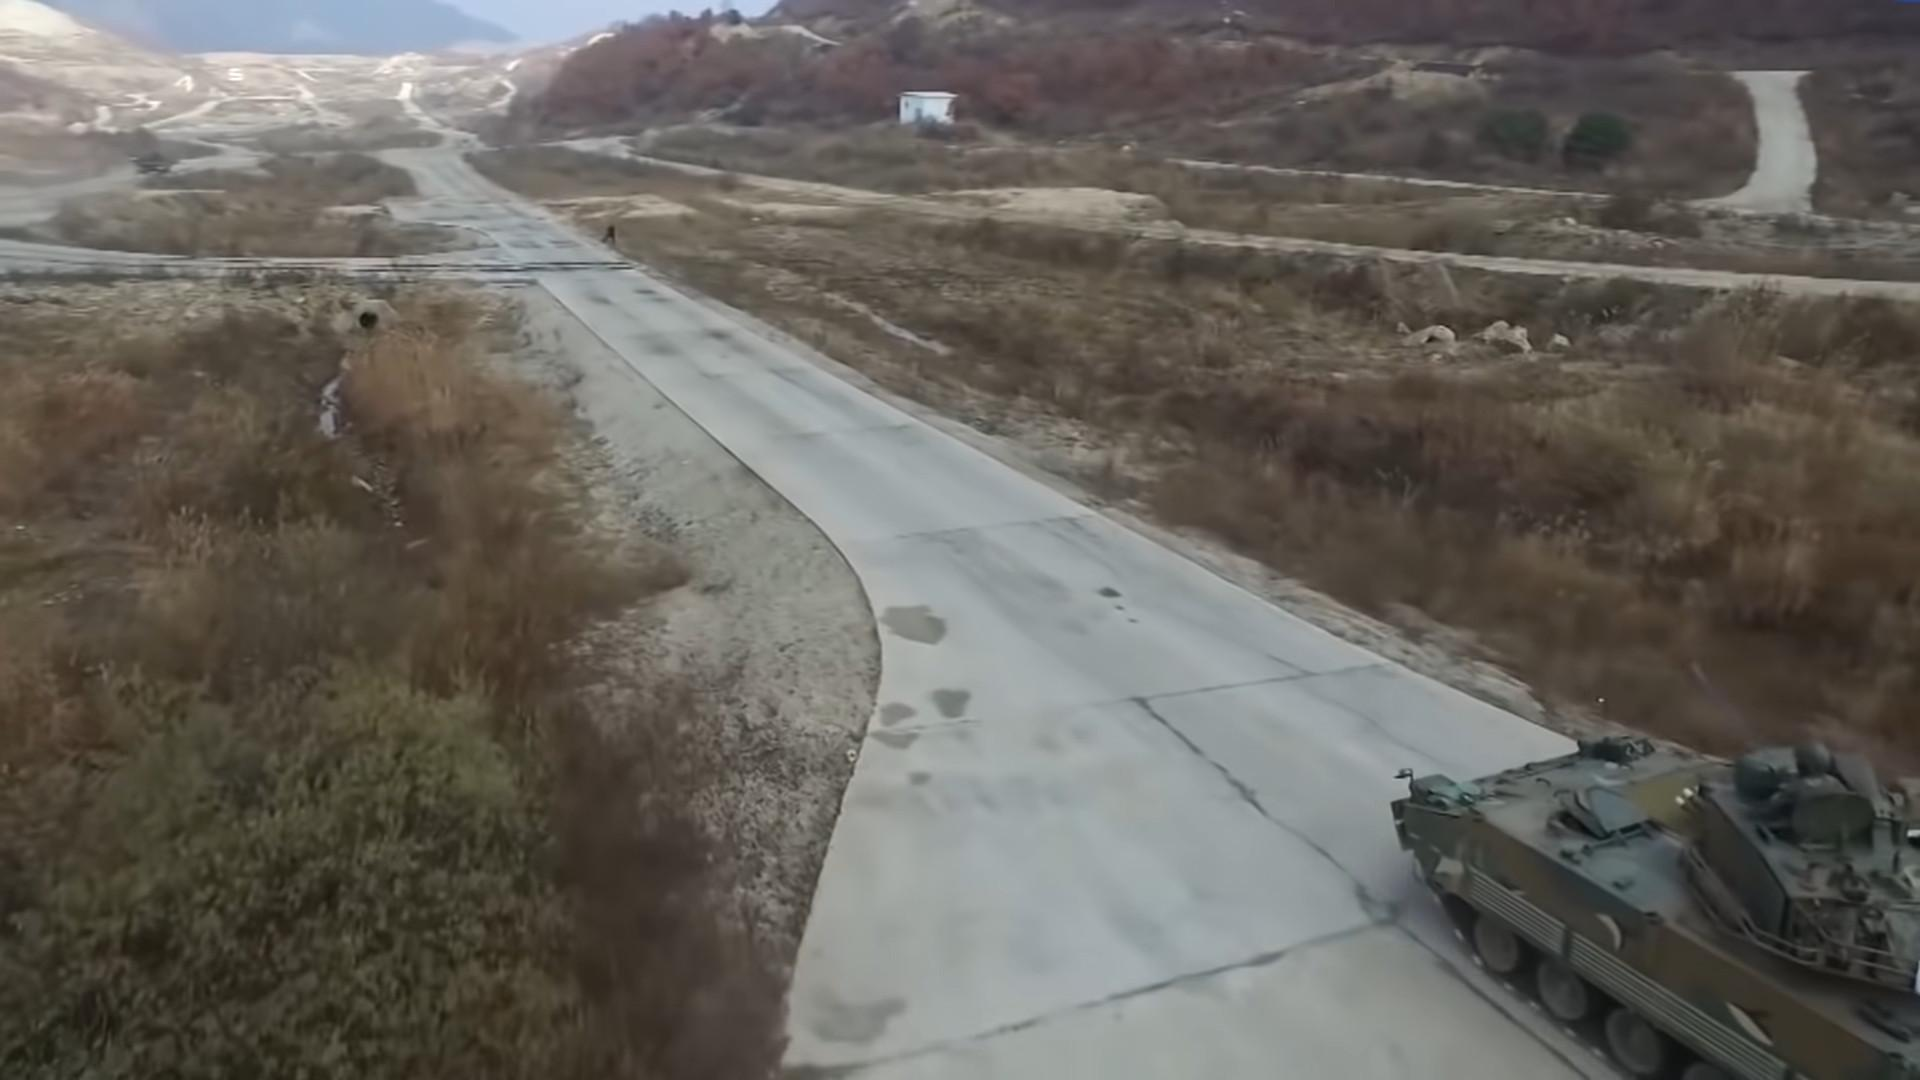tank: (1394, 731, 1919, 1079)
